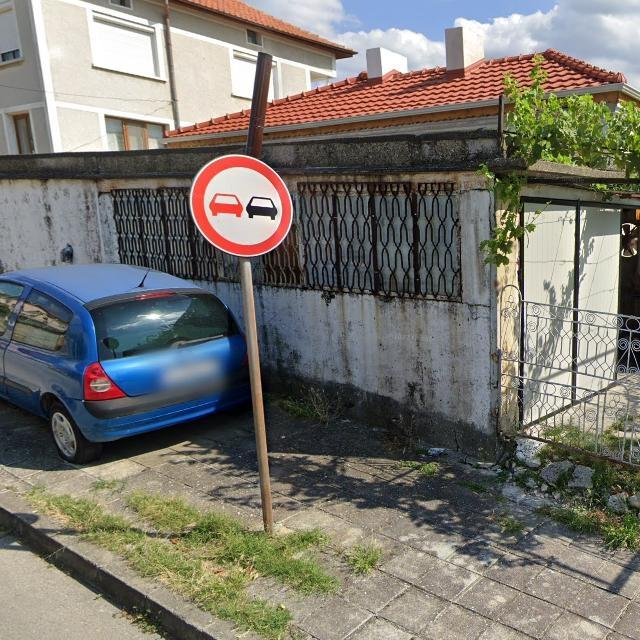forb_overtake: (189, 154, 294, 258)
